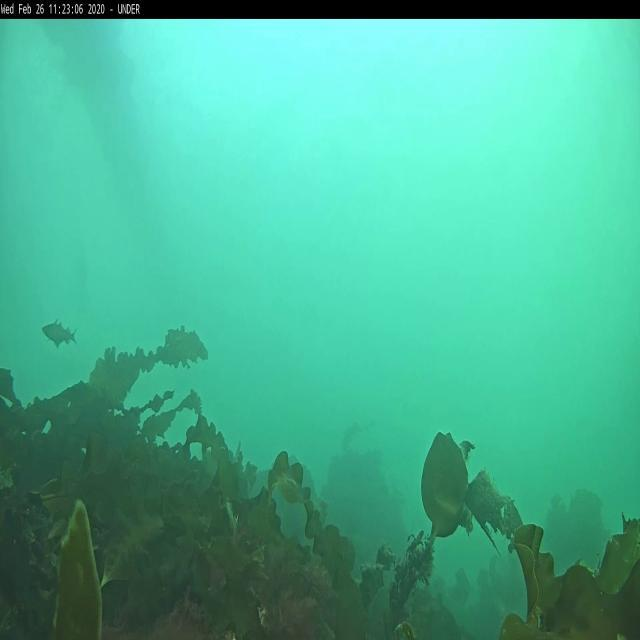fish: (42, 318, 78, 346)
